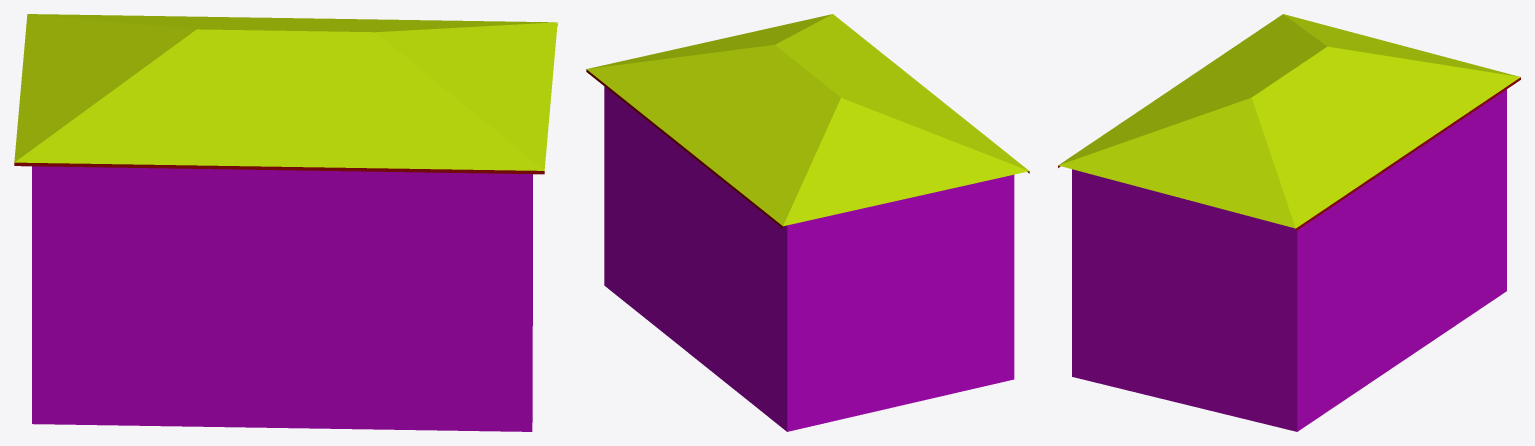
File: dol_33.glb
The picture shows the model from 3 angles, left to right: view 1: azimuth 30°, elevation 25°; view 2: azimuth 150°, elevation 25°; view 3: azimuth 270°, elevation 25°; orthographic projection. The views are drawn at different scales.
Visible parts, largest first — view 1: dol_33; view 2: dol_33; view 3: dol_33.
Part boxes in pixels (x1,y1,x2,y2): dol_33: (14, 14, 557, 431); dol_33: (586, 14, 1029, 431); dol_33: (1058, 14, 1520, 431).
Size of the model in its own units: 20.16 by 11.47 by 18.38.
